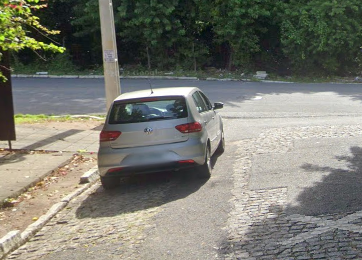car: (96, 79, 228, 193)
